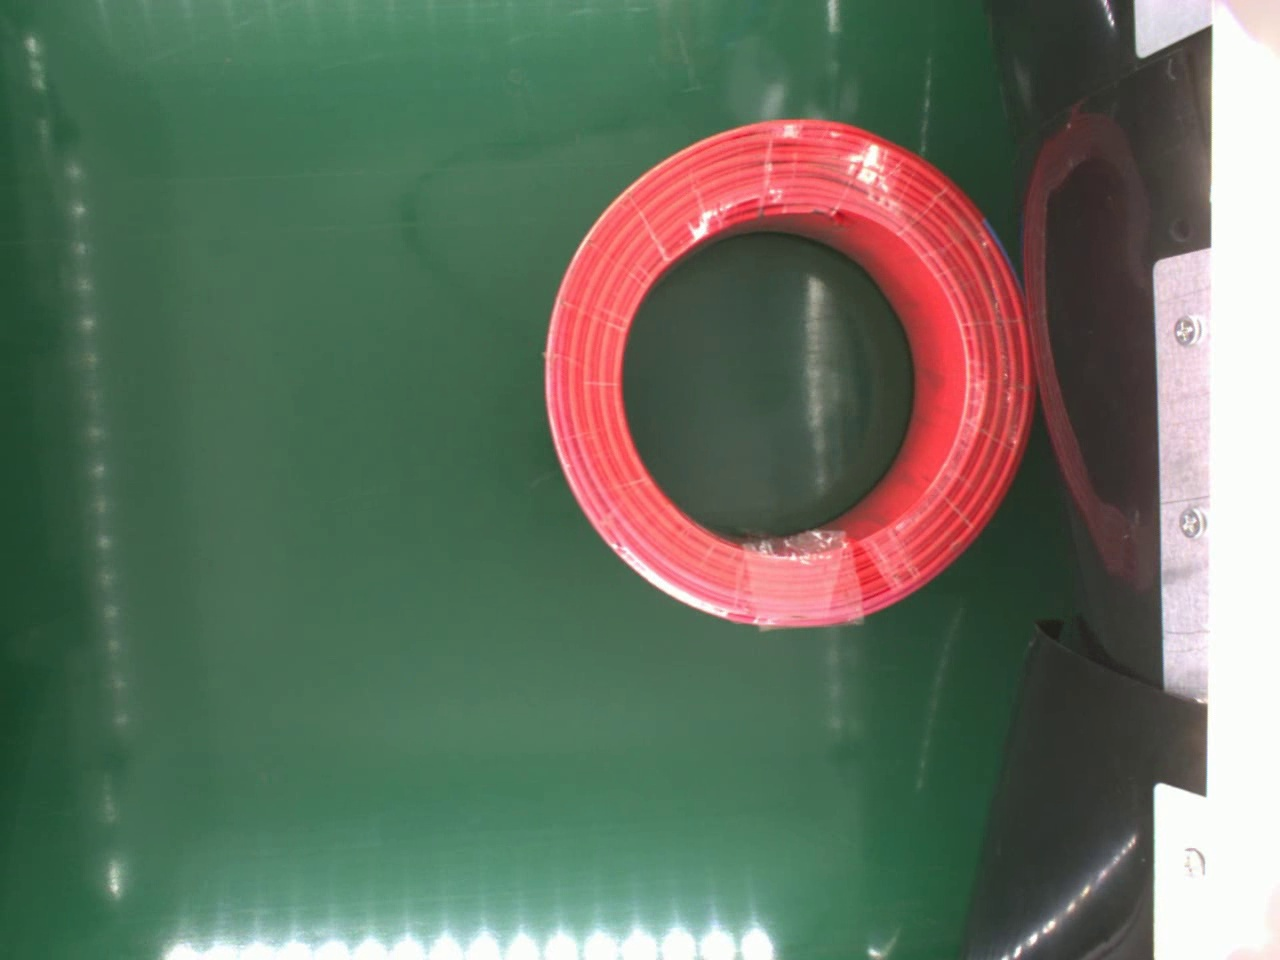red: (542, 110, 1033, 633)
